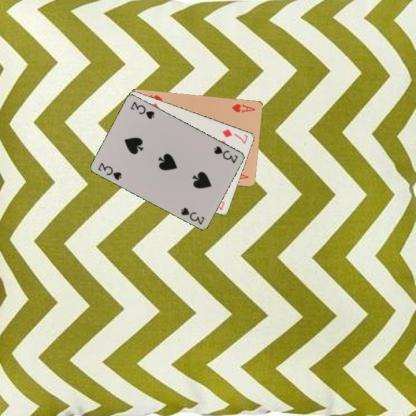3s: (212, 143, 239, 165), (95, 160, 123, 181)
7d: (220, 127, 249, 145)
Ah: (230, 101, 257, 114)
